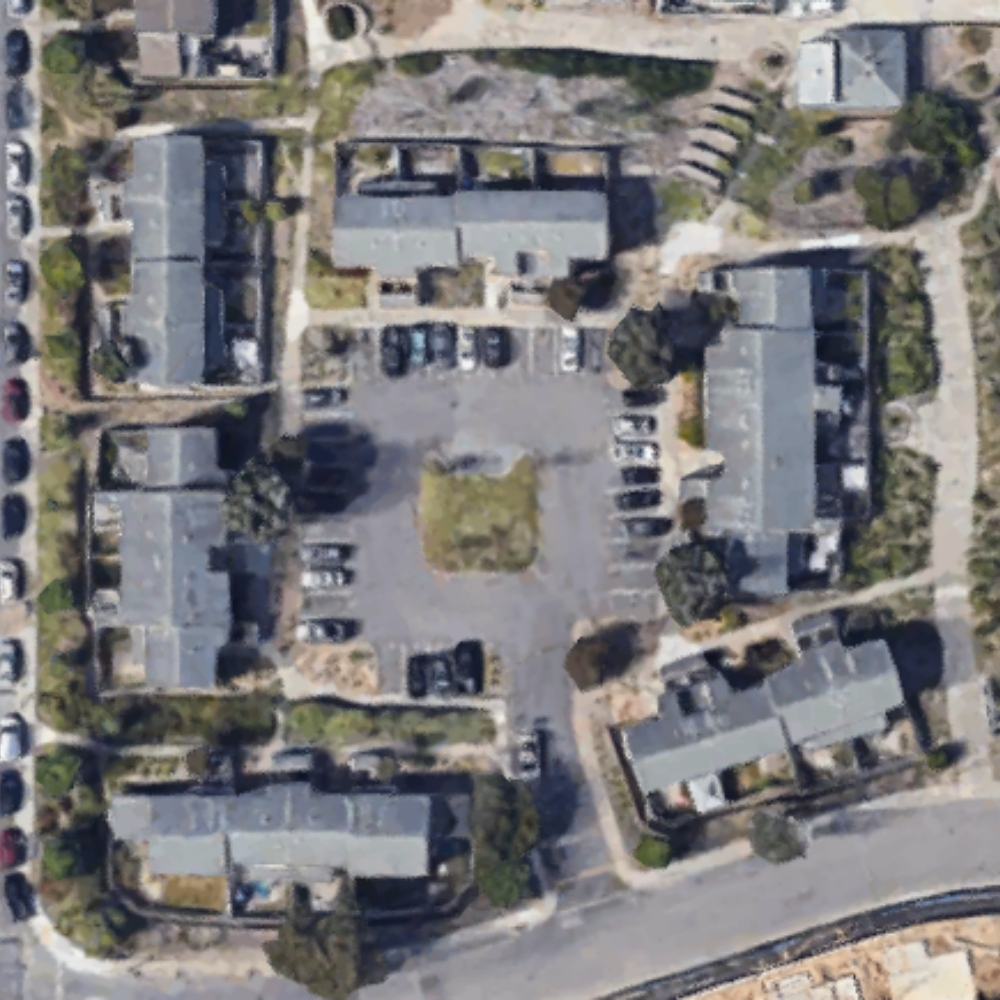parking: (300, 325, 490, 615)
